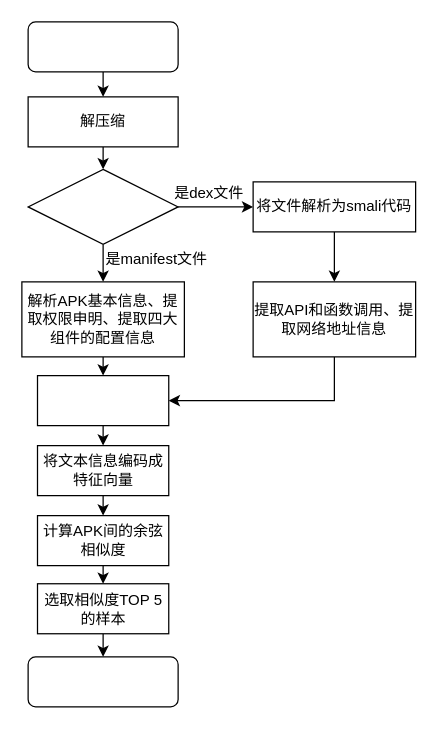
This 438x729 diagram has some shape labels left out. Each missing label, with the centre of its shape:
"上传APK" goes at pixel 102 46.
"判断文件类型" goes at pixel 102 206.
"汇总全部静态特征" goes at pixel 102 400.
"结束" goes at pixel 102 681.
